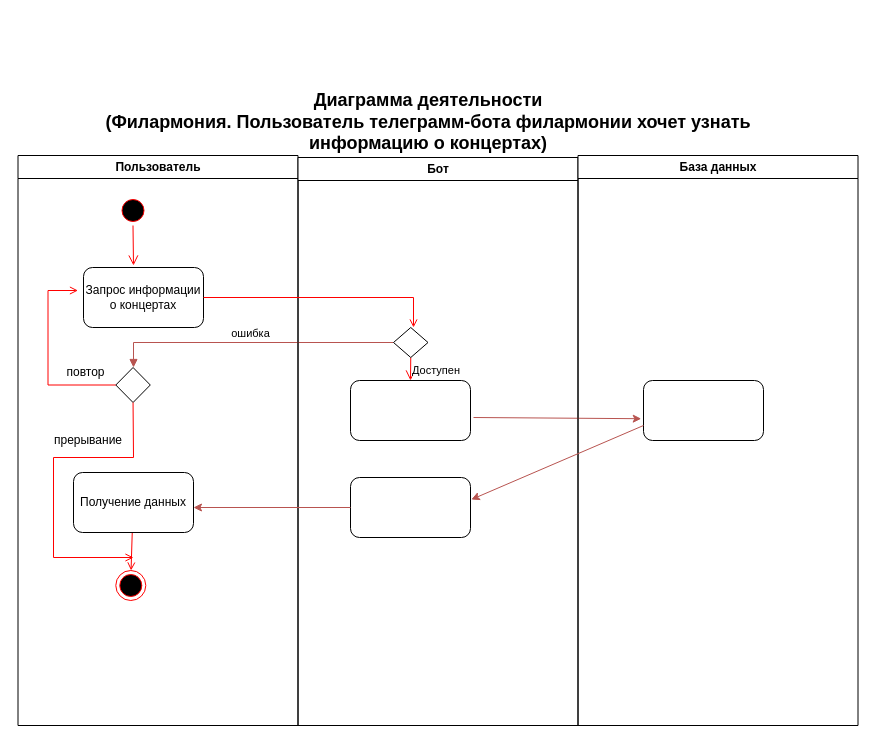
Image size: 875x743. Some labels were removed from this diagram. Each missing label, with the centre of its shape:
"Выборка данных" goes at (x=703, y=410).
"Вывод данных" goes at (x=410, y=507).
"Запрос к базе данных" goes at (x=410, y=410).
